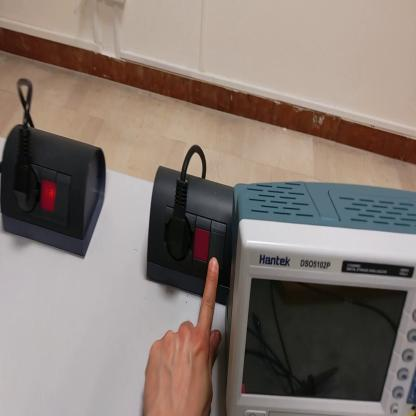hand: (143, 258, 222, 416)
oscilloscope: (220, 179, 416, 414)
socket: (2, 127, 109, 259), (148, 166, 236, 306)
